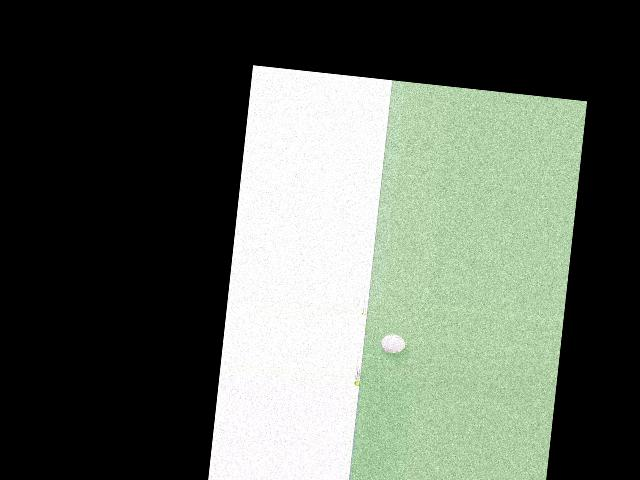egg: (380, 333, 406, 354)
